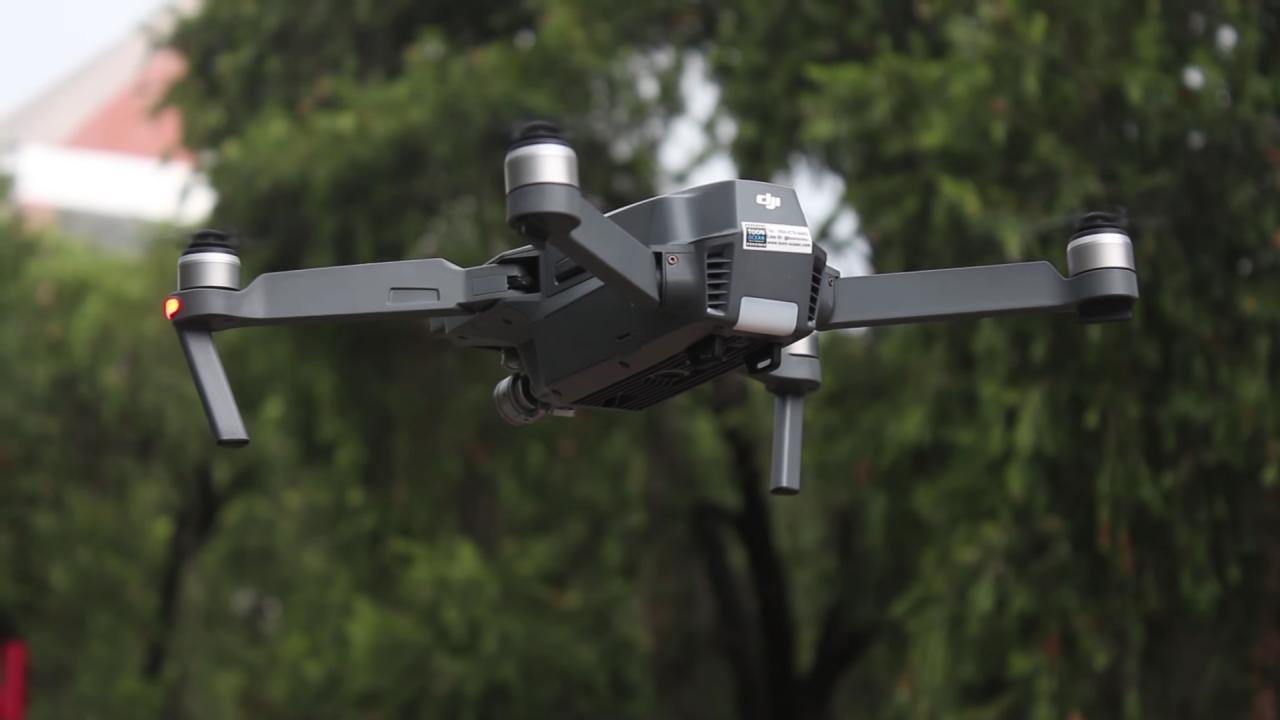Drone: (117, 85, 1183, 514)
